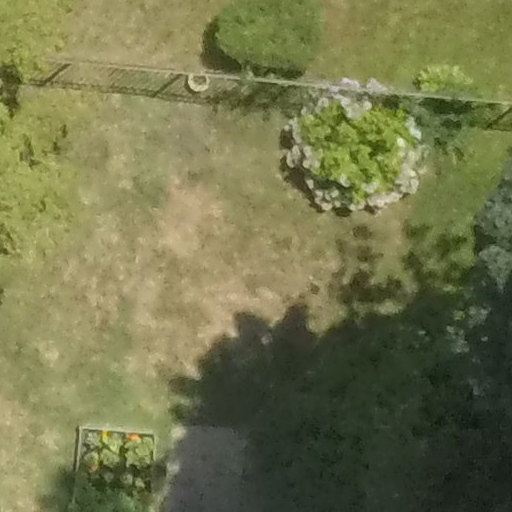container: (179, 64, 214, 99)
flower bed: (64, 418, 160, 512)
